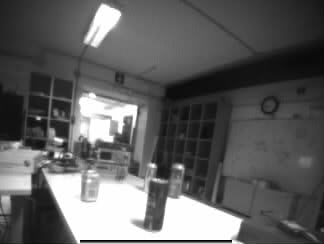Tin can: (144, 179, 168, 230), (83, 170, 99, 203), (169, 163, 184, 198)
